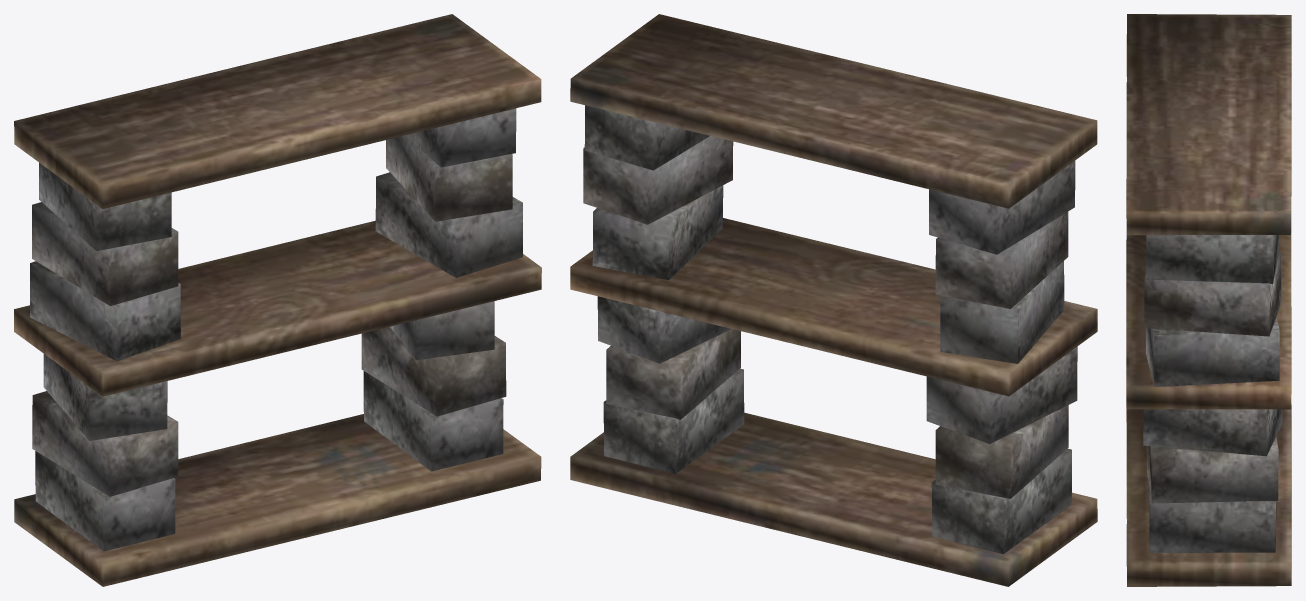
The model's file is shelf3.glb.
3 views of the same model, side by side, from view 1: azimuth 30°, elevation 25°; view 2: azimuth 150°, elevation 25°; view 3: azimuth 270°, elevation 25° (orthographic). The views are drawn at different scales.
Visible parts, largest first — view 1: shelf3; view 2: shelf3; view 3: shelf3.
Boxes of the visible parts, bbox=[...] form: shelf3: bbox=[14, 14, 541, 586]; shelf3: bbox=[570, 14, 1097, 586]; shelf3: bbox=[1126, 14, 1291, 586].
Size of the model in its own units: 1.62 by 1.42 by 0.5679.
1 material, 1 textured.
